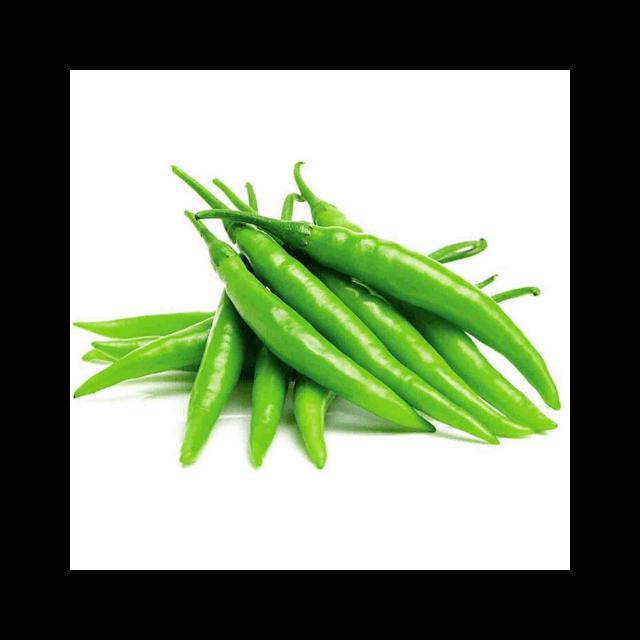chili_pepper: (197, 209, 560, 408), (186, 214, 434, 432), (232, 226, 485, 430), (311, 267, 517, 438), (180, 292, 244, 466), (74, 320, 213, 398)
